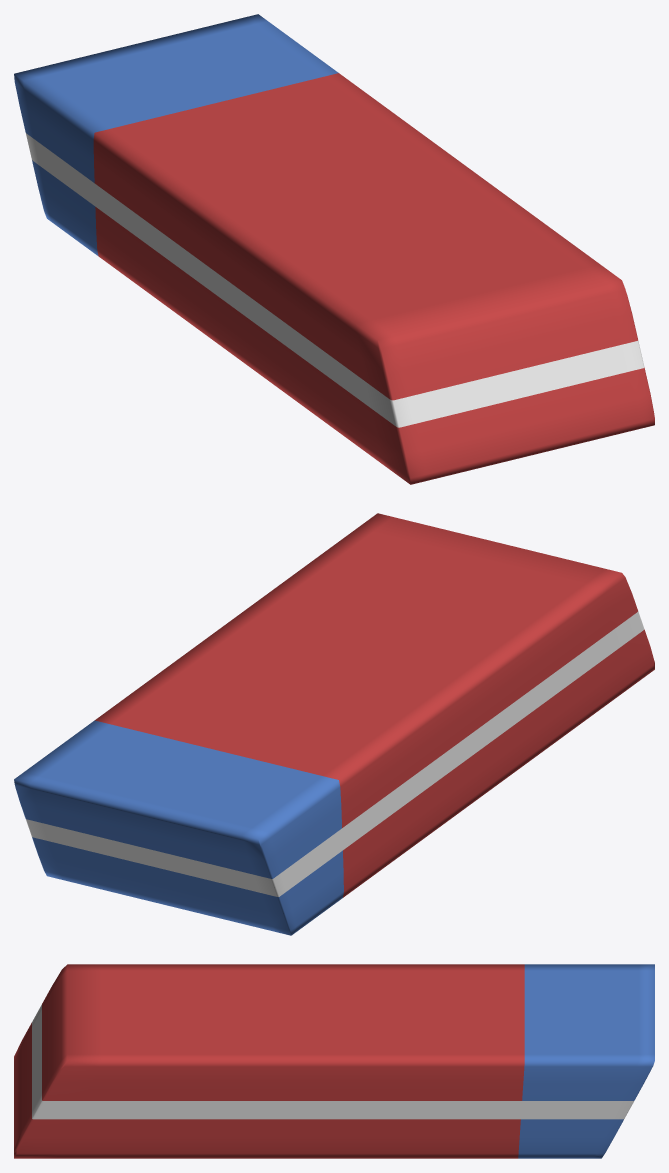
Rendered from eraser.glb.
The picture shows the model from 3 angles, top to bottom: view 1: azimuth 30°, elevation 25°; view 2: azimuth 150°, elevation 25°; view 3: azimuth 270°, elevation 25°; orthographic projection. The views are drawn at different scales.
Visible parts, largest first — view 1: Object_2; view 2: Object_2; view 3: Object_2.
Boxes of the visible parts, bbox=[...] form: Object_2: bbox=[14, 14, 654, 484]; Object_2: bbox=[14, 513, 654, 935]; Object_2: bbox=[14, 964, 654, 1158].
Bounding box in the file's own units: 0.6 × 0.28 × 1.67.
1 material, 1 textured.
